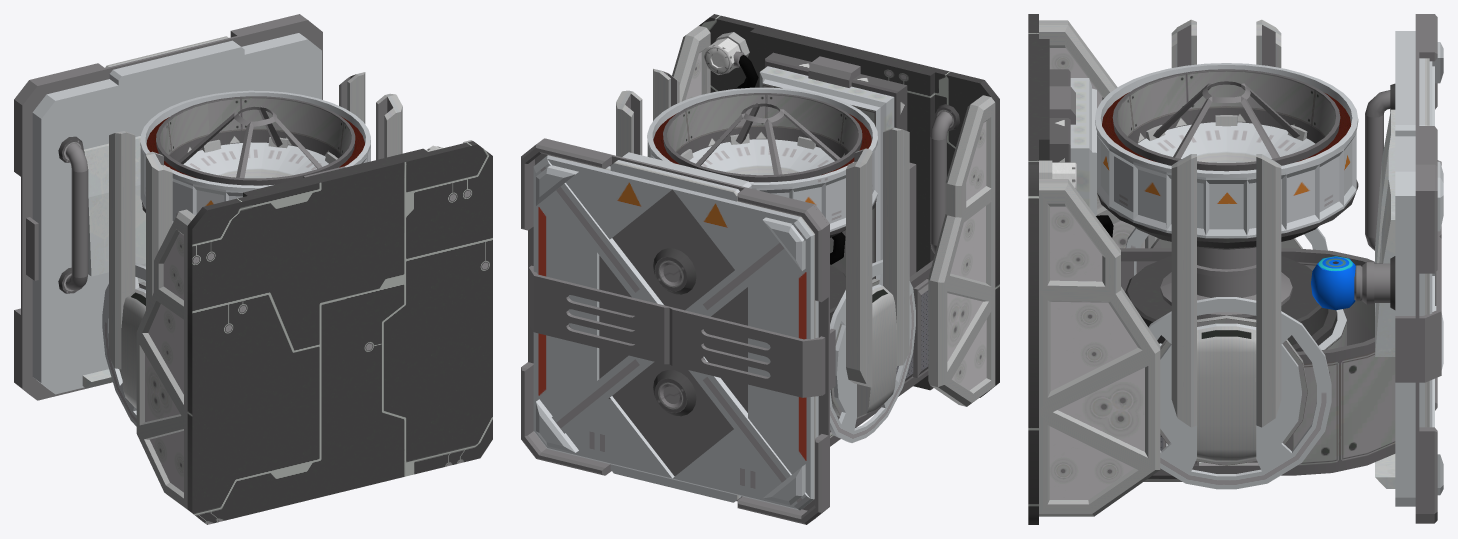
File: laserturret.glb
The picture shows the model from 3 angles, left to right: view 1: azimuth 30°, elevation 25°; view 2: azimuth 150°, elevation 25°; view 3: azimuth 270°, elevation 25°; orthographic projection. The views are drawn at different scales.
Parts seen in each view (by area): view 1: w6_obj_laserturret; view 2: w6_obj_laserturret; view 3: w6_obj_laserturret.
Boxes of the visible parts, x1=… form: w6_obj_laserturret: x1=14, y1=14, x2=492, y2=524; w6_obj_laserturret: x1=521, y1=14, x2=999, y2=524; w6_obj_laserturret: x1=1028, y1=14, x2=1443, y2=524.
Bounding box in the file's own units: 1.5 × 1.56 × 1.57.
Materials: 11 (11 with a texture image).
